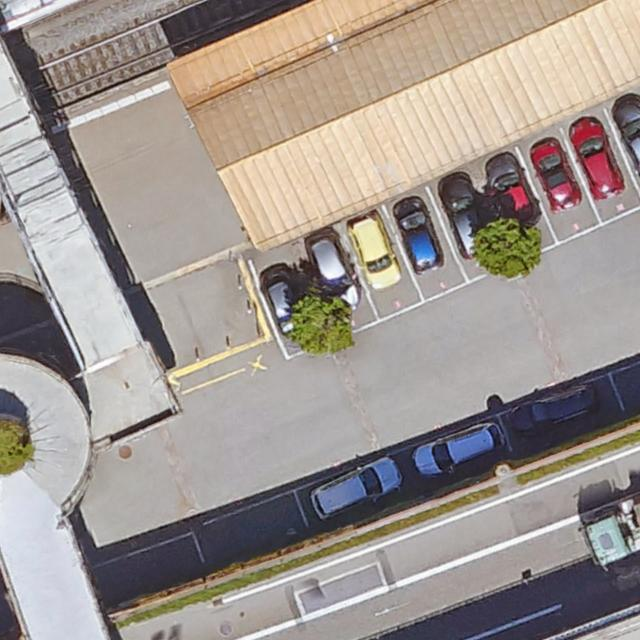tree: (472, 219, 542, 279), (287, 295, 354, 354)
